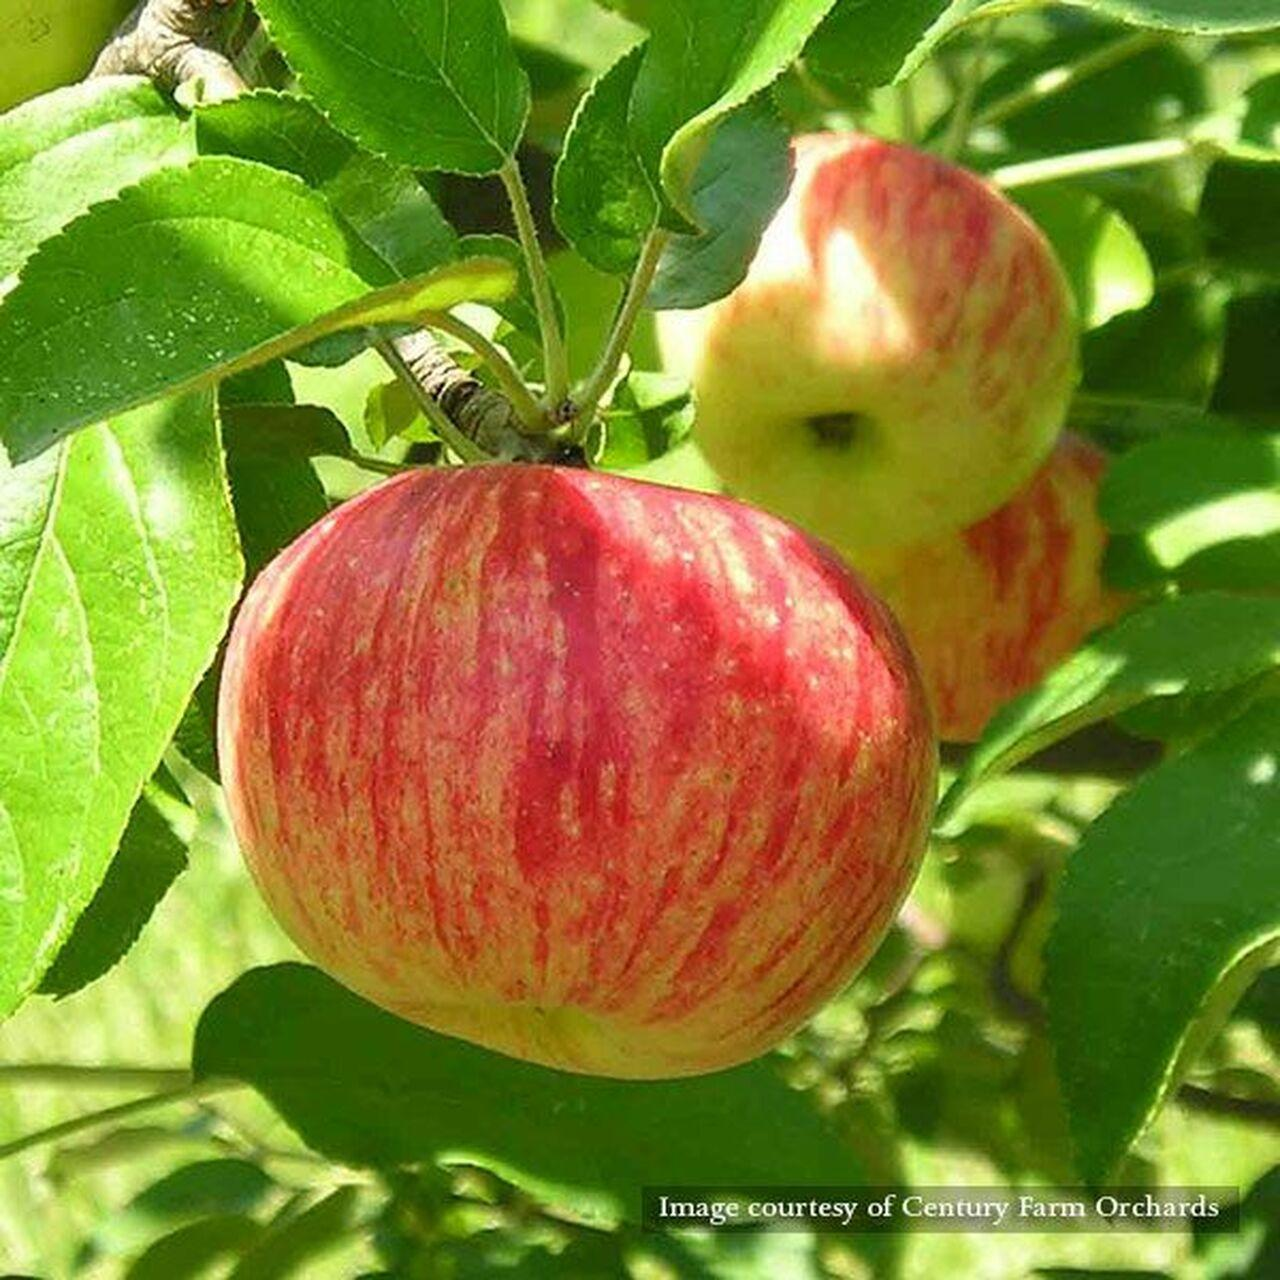apple: (204, 481, 928, 1104), (696, 137, 1083, 561)
